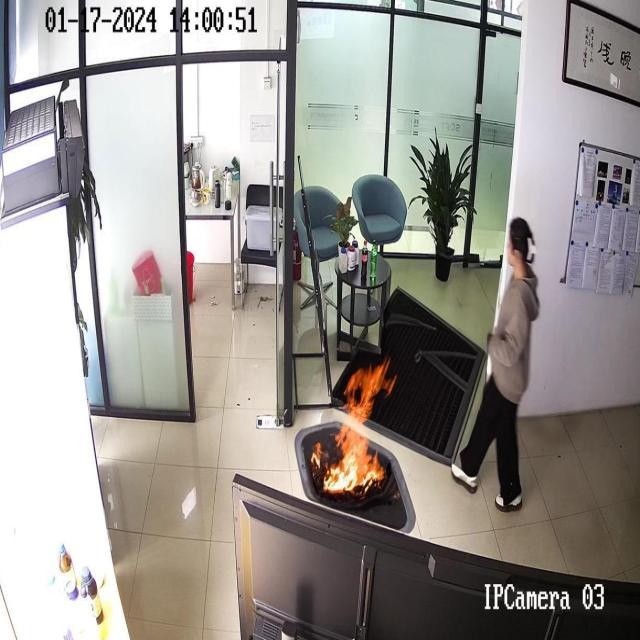smoke: (318, 351, 395, 496)
